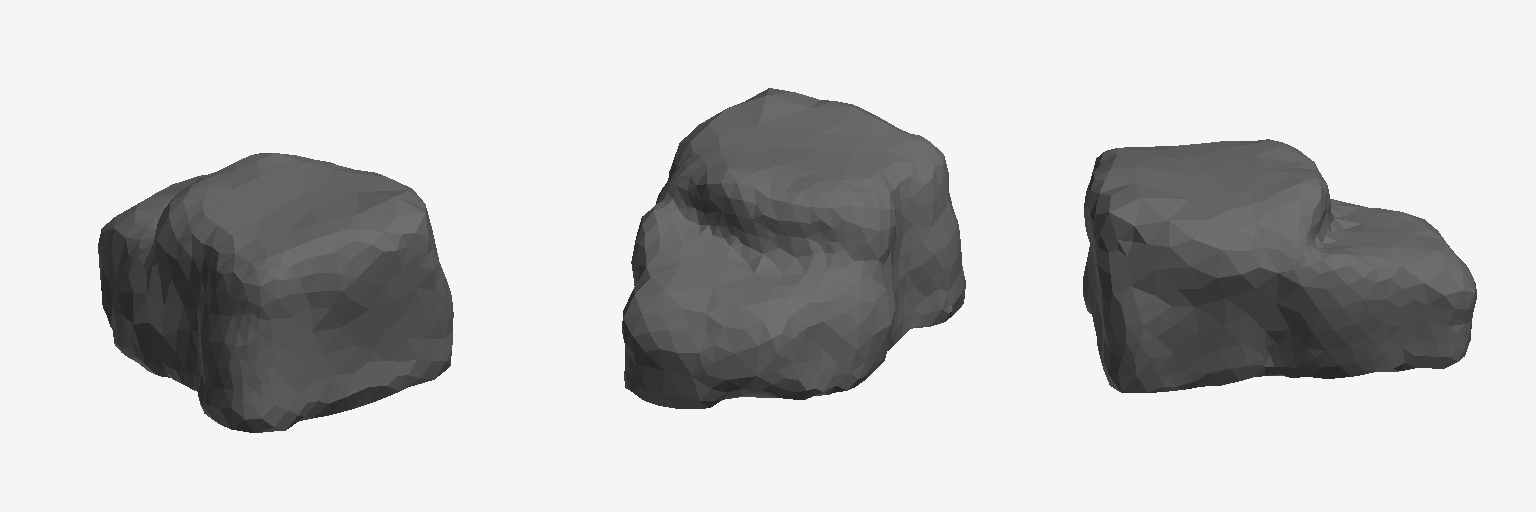
The model's file is CavePlatform3_C.obj.
The picture shows the model from 3 angles: view 1: azimuth 30°, elevation 25°; view 2: azimuth 150°, elevation 25°; view 3: azimuth 270°, elevation 25°; orthographic projection.
Visible parts, largest first — view 1: CavePlatform3C; view 2: CavePlatform3C; view 3: CavePlatform3C.
Part boxes in pixels (x1,y1,x2,y2): CavePlatform3C: (98, 153, 453, 432); CavePlatform3C: (622, 88, 965, 408); CavePlatform3C: (1083, 139, 1476, 392).
Size of the model in its own units: 32.92 by 23.69 by 45.51.